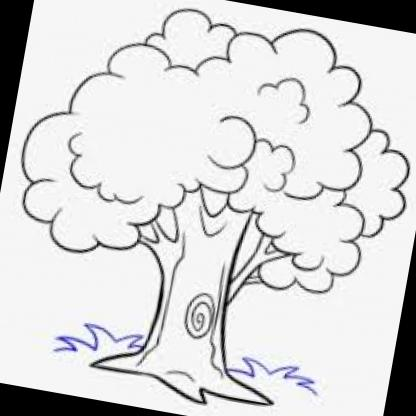branch_cut: (132, 178, 292, 287)
crown_cloud: (9, 0, 416, 307)
knot: (180, 290, 218, 341)
root_upside: (84, 337, 279, 416)
trunk_bark: (141, 270, 242, 367)
